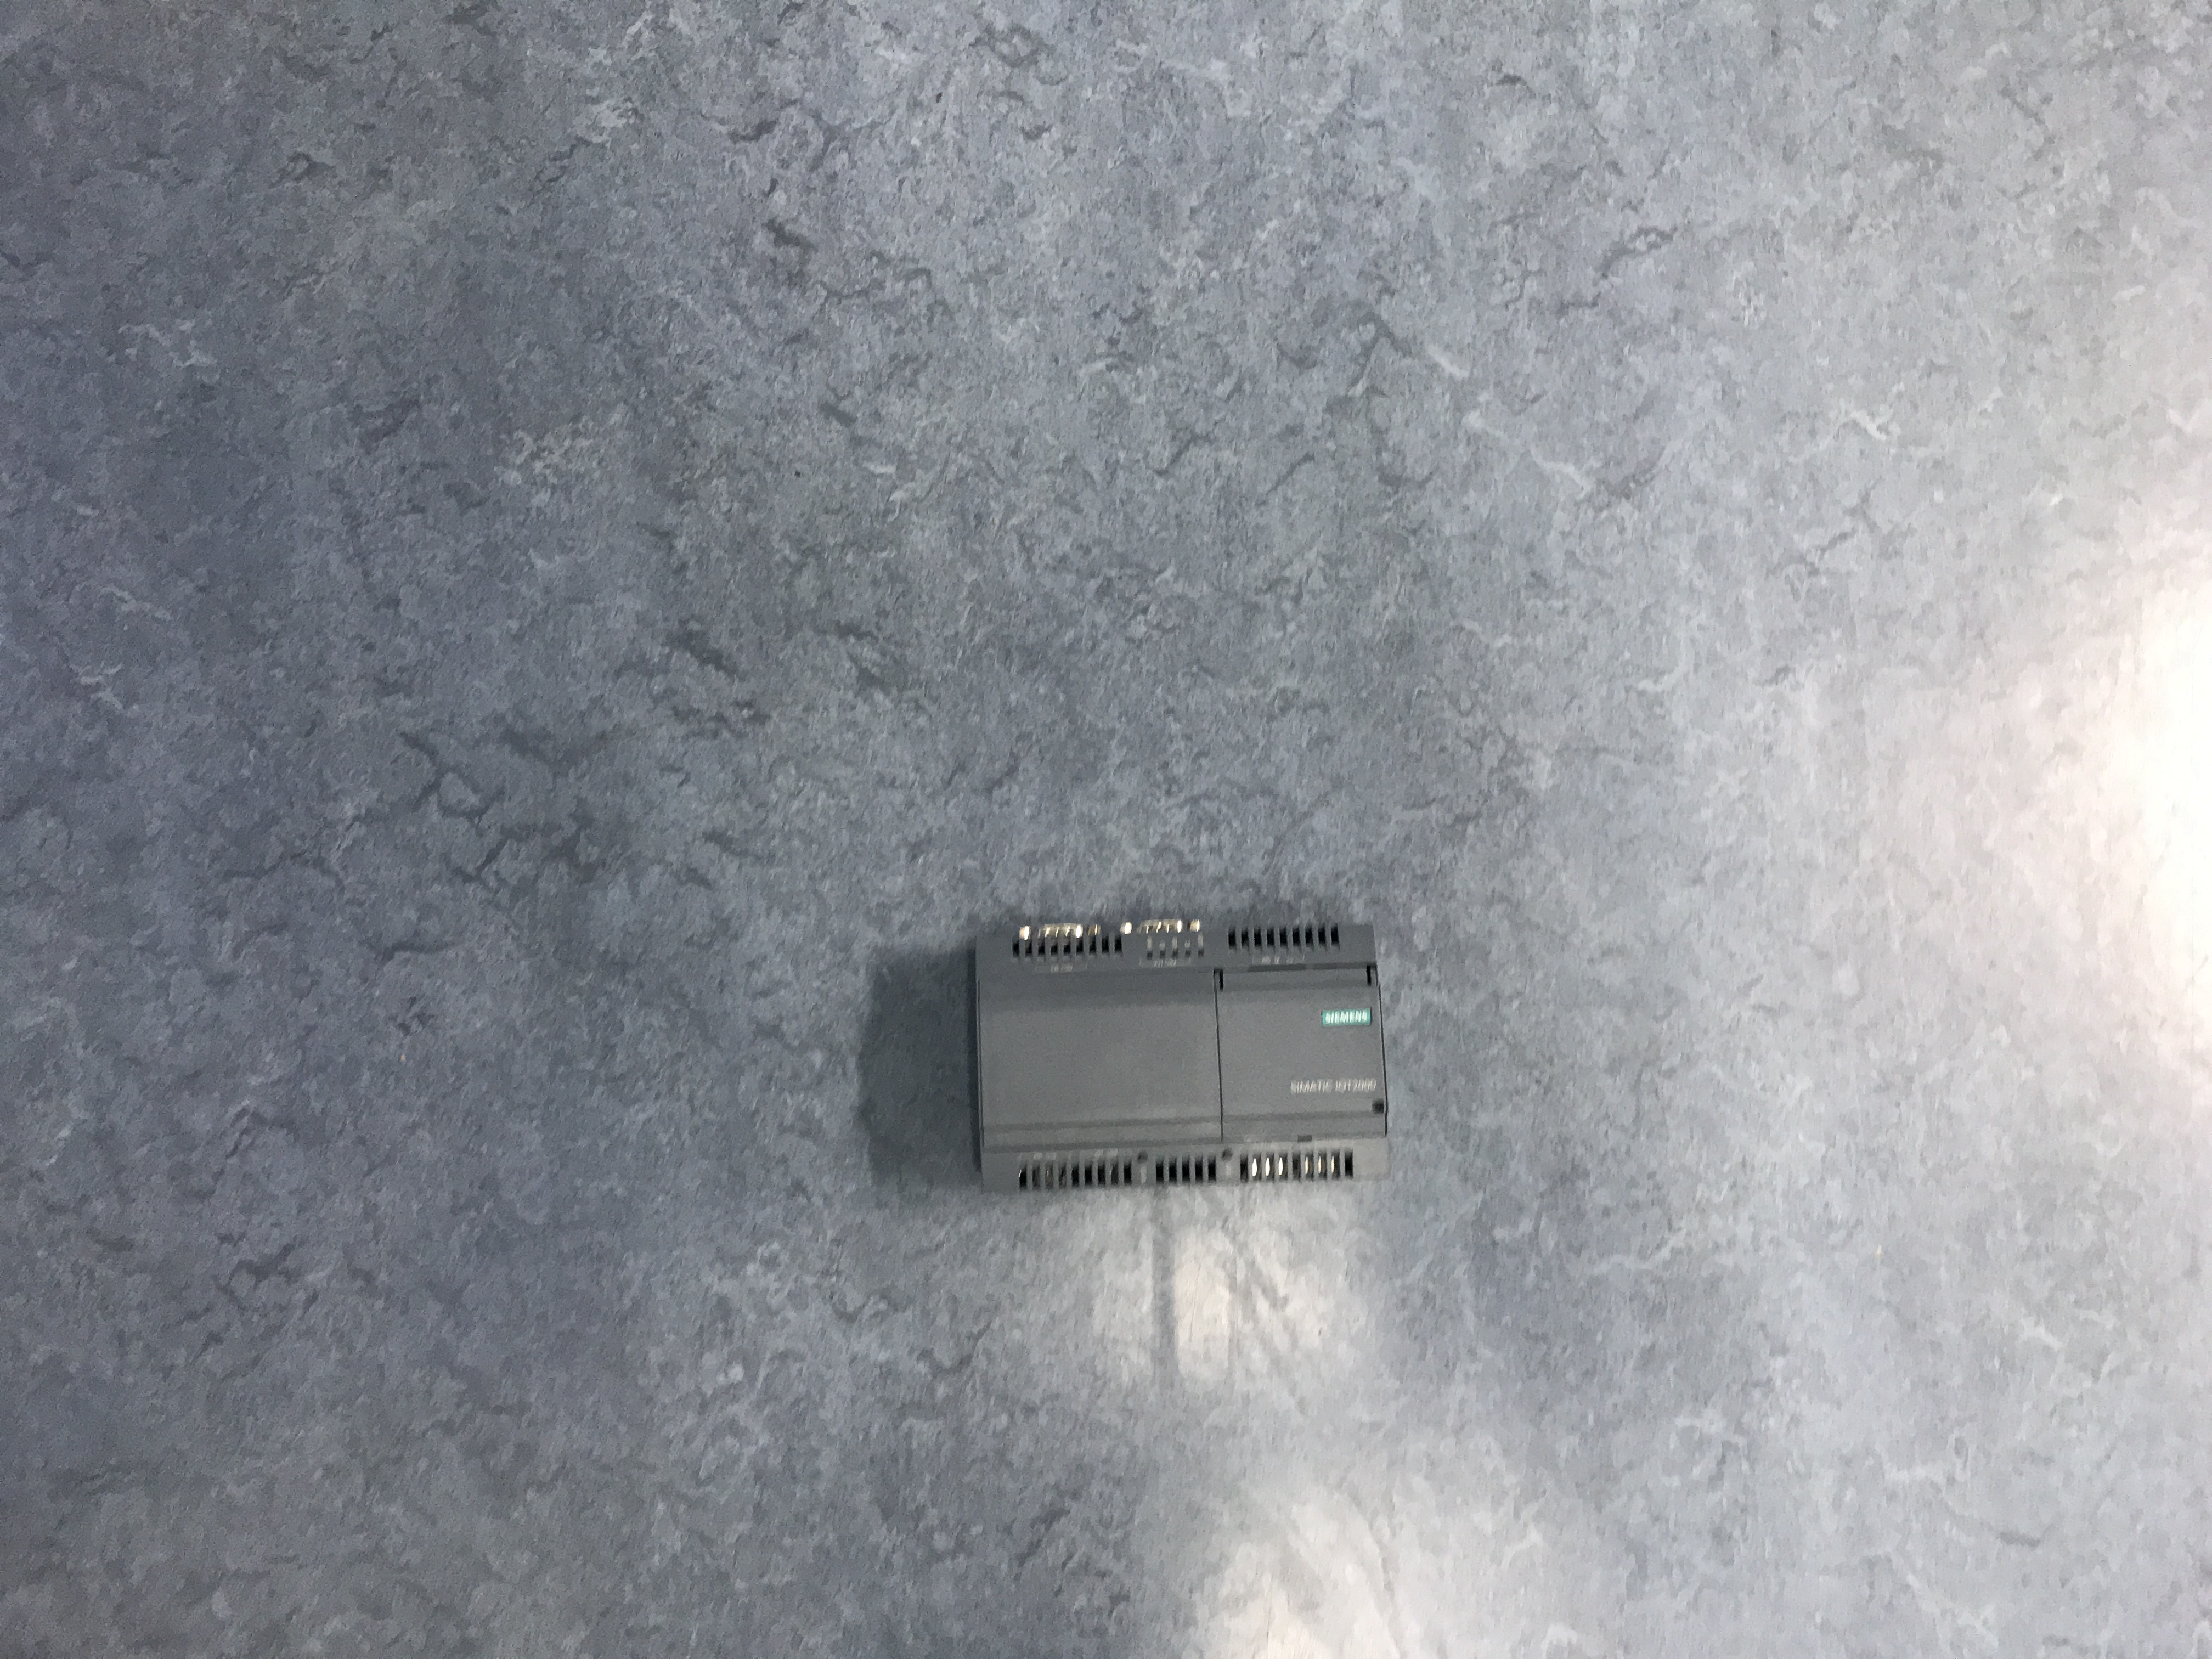device: (974, 918, 1393, 1192)
